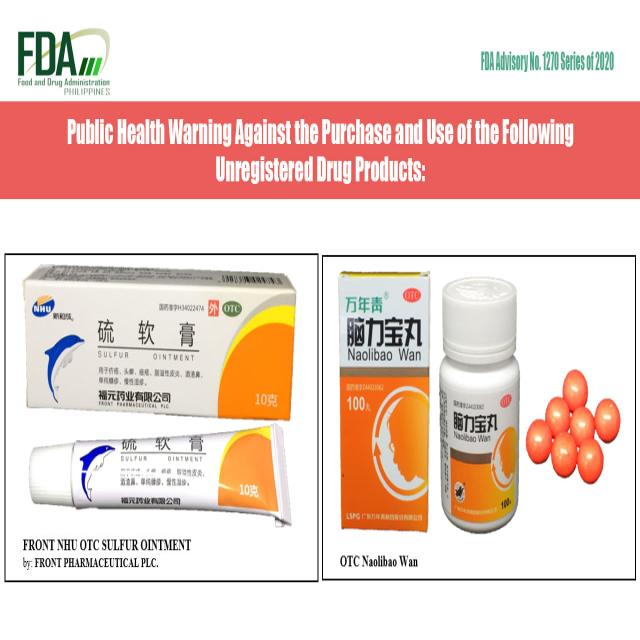counterfeit: (20, 263, 298, 421), (22, 432, 300, 532), (333, 266, 430, 542), (439, 276, 522, 534), (528, 355, 622, 497)
